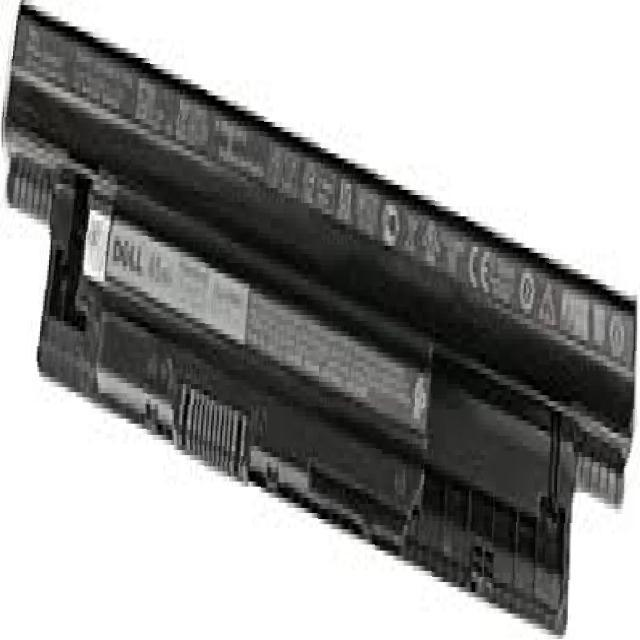Battery: (0, 0, 639, 636)
